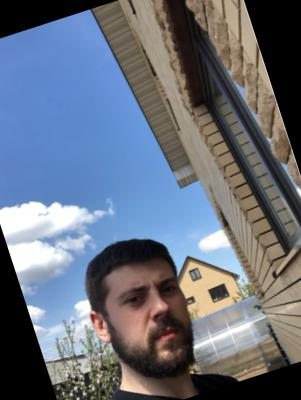without_mask: (110, 266, 207, 385)
